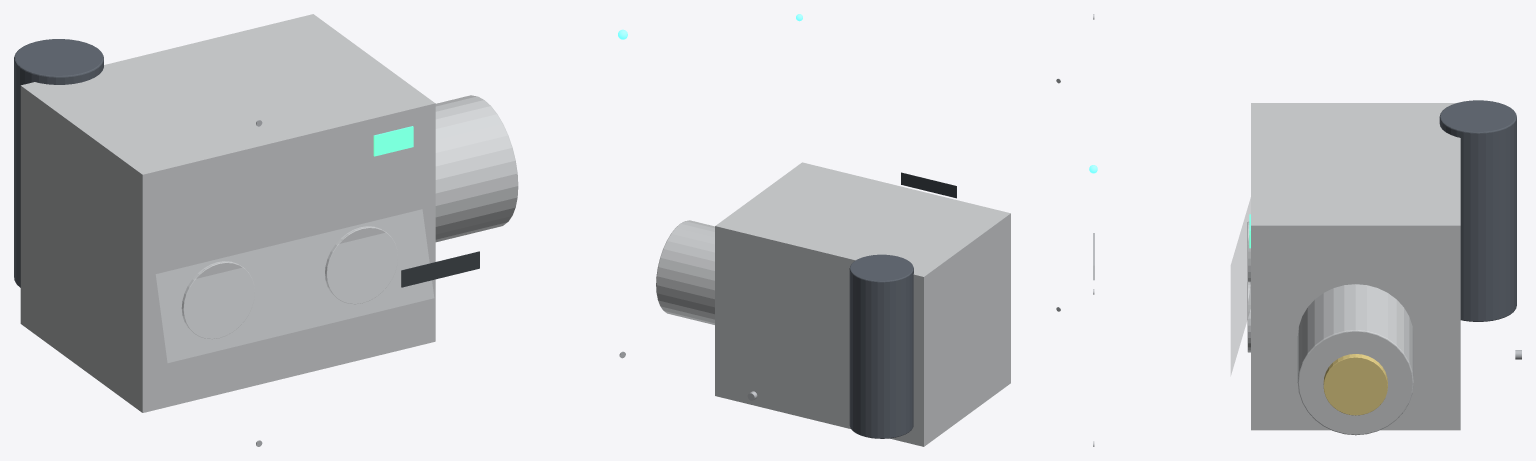
The model's file is SM_Glovebox.glb.
The picture shows the model from 3 angles, left to right: view 1: azimuth 30°, elevation 25°; view 2: azimuth 150°, elevation 25°; view 3: azimuth 270°, elevation 25°; orthographic projection. The views are drawn at different scales.
Visible parts, largest first — view 1: Glovebox_MainChamber, Glovebox_FrontWindow, Glovebox_Antechamber, Glovebox_PurificationTower, Glovebox_PortRing_L, Glovebox_PortRing_R, Detail_RatingPlate, Glovebox_PPM_SensorDisplay; view 2: Glovebox_MainChamber, Glovebox_PurificationTower, Glovebox_Antechamber, Detail_RatingPlate; view 3: Glovebox_MainChamber, Glovebox_PurificationTower, Glovebox_Antechamber, Glovebox_AirlockDoor, Glovebox_FrontWindow.
Boxes of the visible parts, left/top/right/bottom form: Glovebox_MainChamber: left=20, top=14, right=435, bottom=412; Glovebox_FrontWindow: left=156, top=209, right=433, bottom=362; Glovebox_Antechamber: left=435, top=95, right=518, bottom=242; Glovebox_PurificationTower: left=14, top=39, right=103, bottom=287; Glovebox_PortRing_L: left=181, top=261, right=254, bottom=339; Glovebox_PortRing_R: left=325, top=226, right=397, bottom=304; Detail_RatingPlate: left=401, top=251, right=479, bottom=287; Glovebox_PPM_SensorDisplay: left=373, top=126, right=413, bottom=156; Glovebox_MainChamber: left=715, top=162, right=1010, bottom=446; Glovebox_PurificationTower: left=849, top=254, right=913, bottom=438; Glovebox_Antechamber: left=656, top=220, right=714, bottom=324; Detail_RatingPlate: left=901, top=172, right=956, bottom=198; Glovebox_MainChamber: left=1251, top=103, right=1460, bottom=430; Glovebox_PurificationTower: left=1439, top=100, right=1516, bottom=321; Glovebox_Antechamber: left=1297, top=284, right=1413, bottom=435; Glovebox_AirlockDoor: left=1323, top=354, right=1387, bottom=415; Glovebox_FrontWindow: left=1231, top=198, right=1250, bottom=373.
Size of the model in its own units: 1.26 by 1.04 by 1.34.
